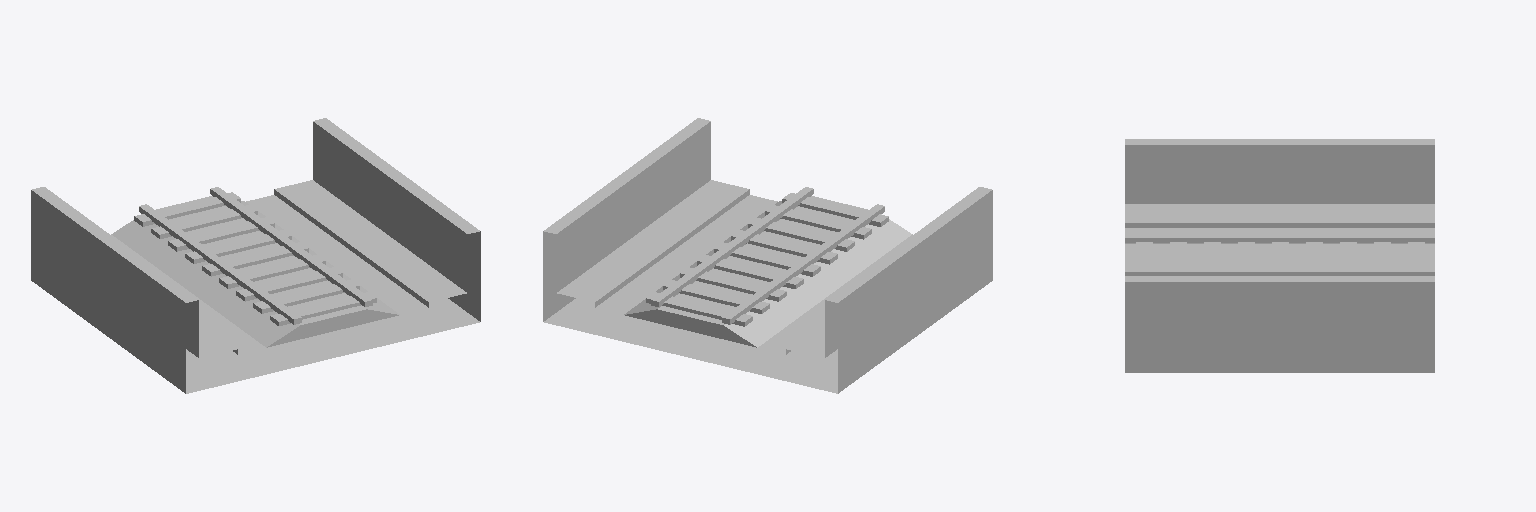
The model's file is SM_Env_Track_Raised_Straight_01.obj.
3 renders of one model, left to right at view 1: azimuth 30°, elevation 25°; view 2: azimuth 150°, elevation 25°; view 3: azimuth 270°, elevation 25°, orthographic.
Visible parts, largest first — view 1: SM_Env_Track_Raised_Straight_01:Mesh; view 2: SM_Env_Track_Raised_Straight_01:Mesh; view 3: SM_Env_Track_Raised_Straight_01:Mesh.
Boxes of the visible parts, <box> form: SM_Env_Track_Raised_Straight_01:Mesh: <box>31,118,480,393</box>; SM_Env_Track_Raised_Straight_01:Mesh: <box>543,118,992,393</box>; SM_Env_Track_Raised_Straight_01:Mesh: <box>1125,139,1434,372</box>.
Size of the model in its own units: 10.98 by 3.24 by 10.